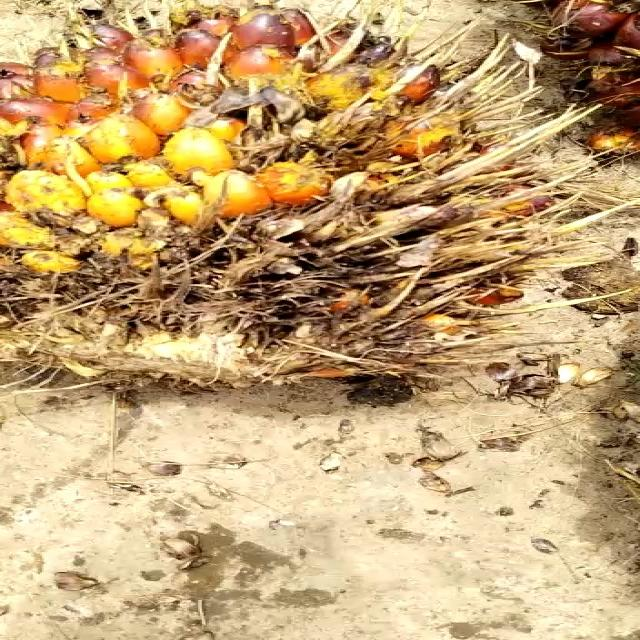palm oil: (0, 4, 570, 422)
